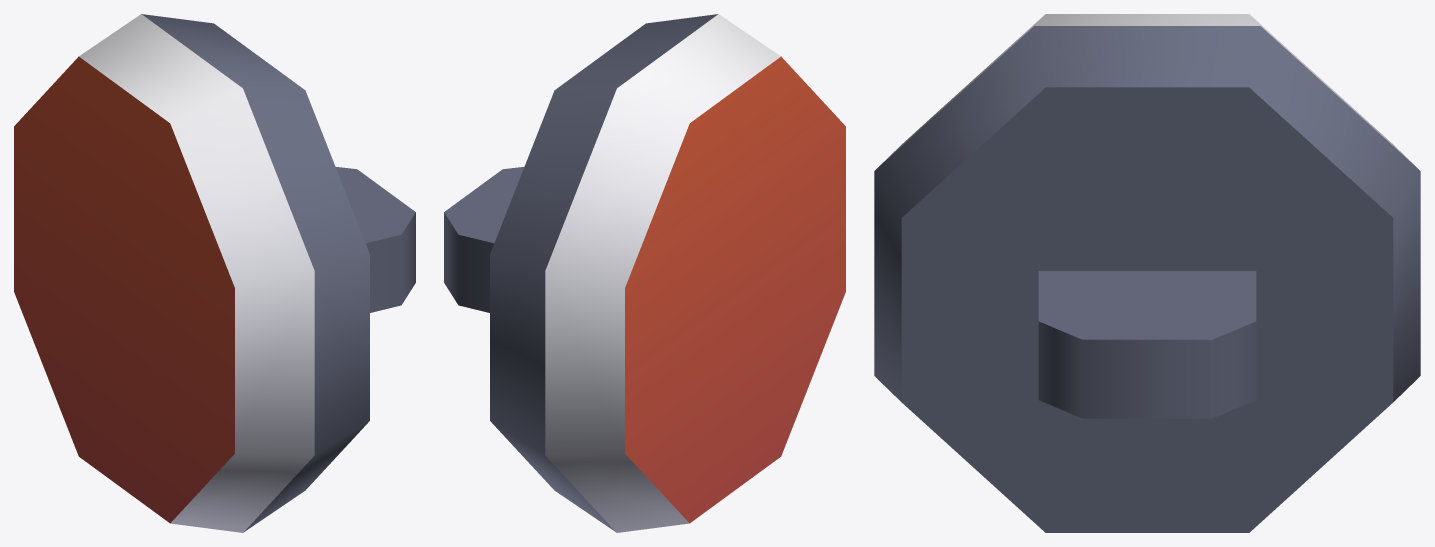
The model's file is road-sign-object-stop.glb.
The picture shows the model from 3 angles, left to right: view 1: azimuth 30°, elevation 25°; view 2: azimuth 150°, elevation 25°; view 3: azimuth 270°, elevation 25°; orthographic projection. The views are drawn at different scales.
Parts seen in each view (by area): view 1: road-sign-object-stop; view 2: road-sign-object-stop; view 3: road-sign-object-stop.
Part boxes in pixels (x1,y1,x2,y2): road-sign-object-stop: [14, 14, 415, 532]; road-sign-object-stop: [444, 14, 845, 532]; road-sign-object-stop: [874, 14, 1420, 532].
Bounding box in the file's own units: 0.0775 × 0.1256 × 0.1256.
1 material, 1 textured.
